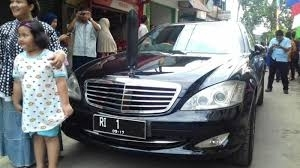plate: (93, 115, 145, 139)
